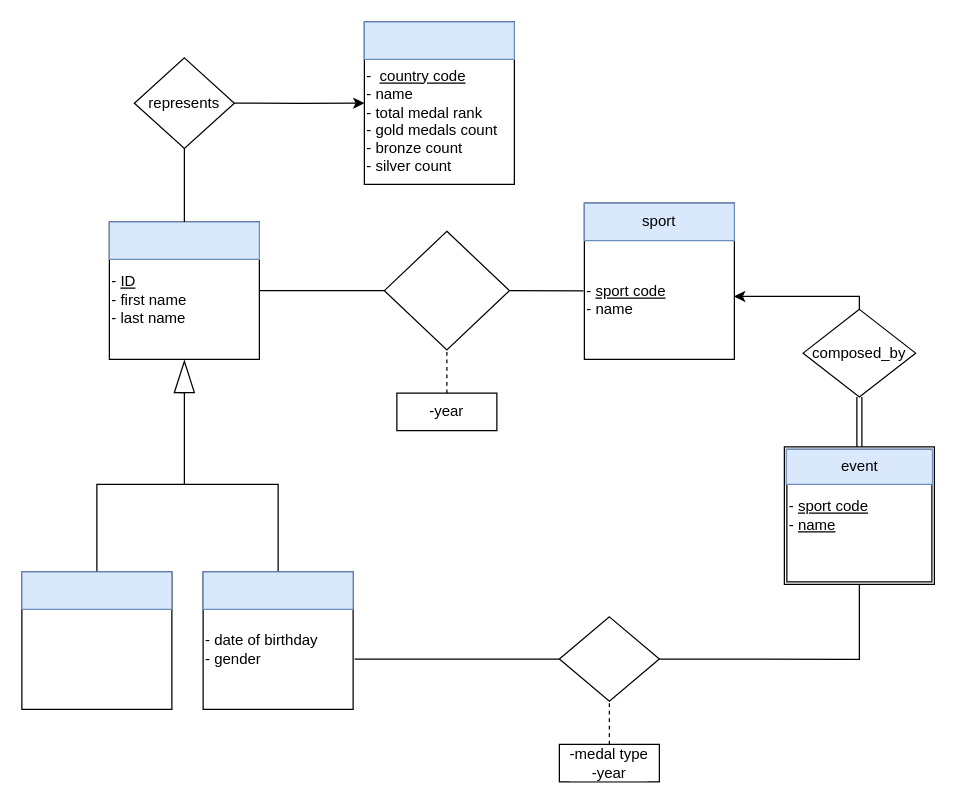
The diagram is 956 pixels wide and 804 high, and some of its shapes have lost their labels. Each missing label, with the centre of its shape:
athlete: [277,590]
coach: [96,590]
country: [438,40]
enrolled_in: [446,290]
medalists: [608,658]
person: [183,240]
